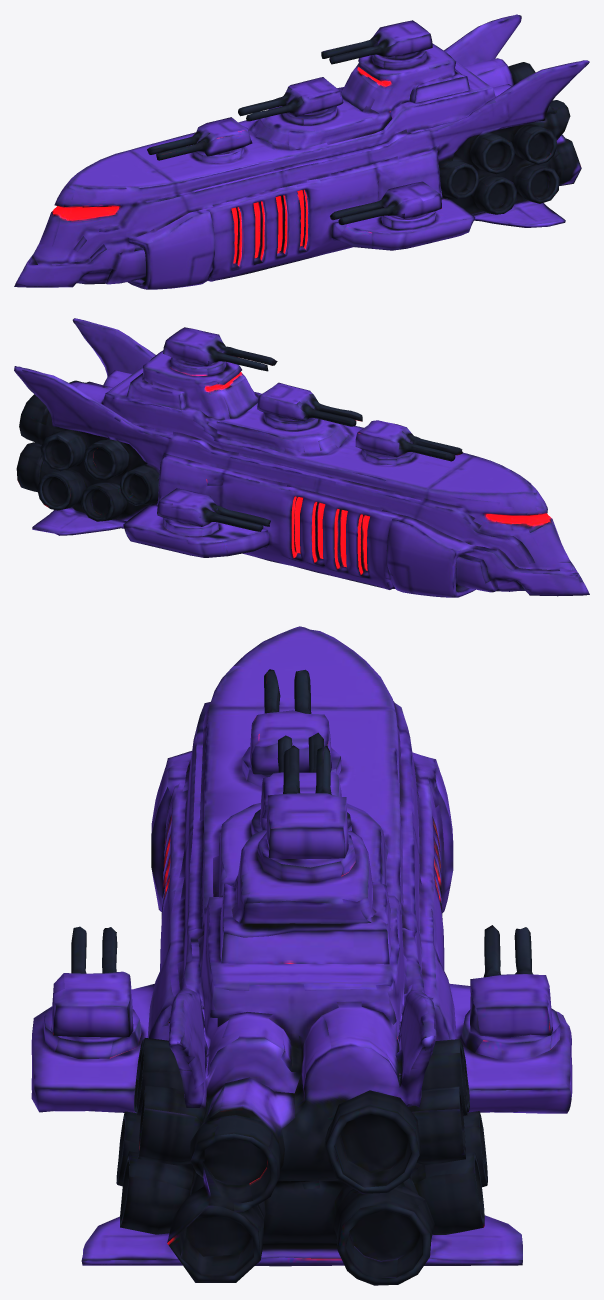
Rendered from boss_titan.glb.
3 renders of one model, top to bottom at view 1: azimuth 30°, elevation 25°; view 2: azimuth 150°, elevation 25°; view 3: azimuth 270°, elevation 25°, orthographic. The views are drawn at different scales.
Visible parts, largest first — view 1: BossTitan; view 2: BossTitan; view 3: BossTitan.
Boxes of the visible parts, box(x1,y1,x2,y2) form: BossTitan: box(14, 14, 589, 289); BossTitan: box(14, 318, 589, 597); BossTitan: box(31, 626, 572, 1285).
Bounding box in the file's own units: 2.04 × 0.6363 × 0.8799.
Materials: 1 (1 with a texture image).
